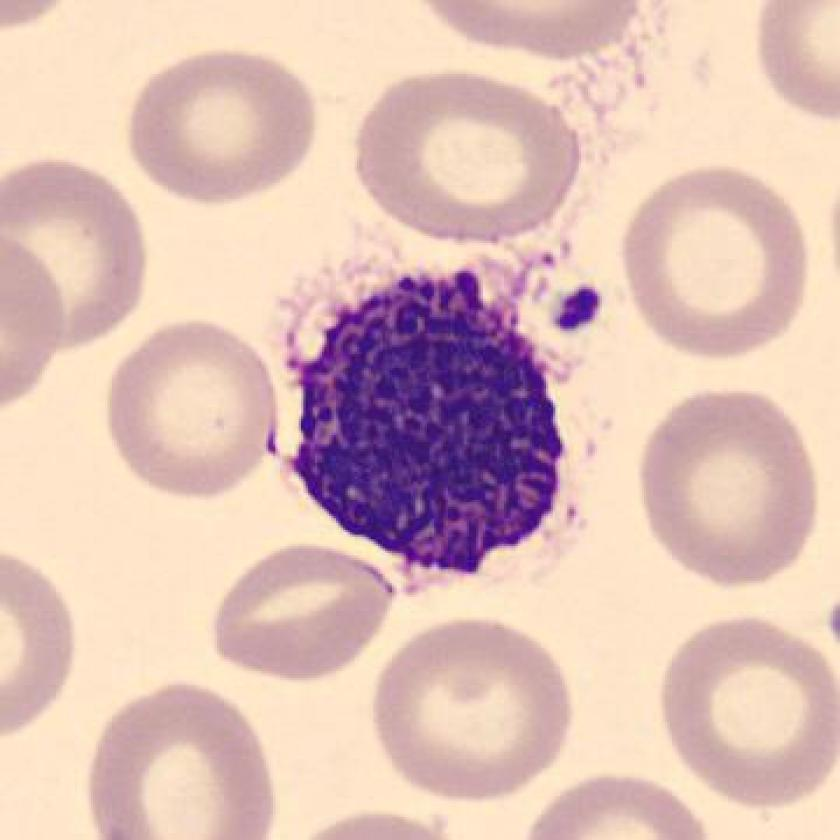basophil: (288, 265, 591, 589)
